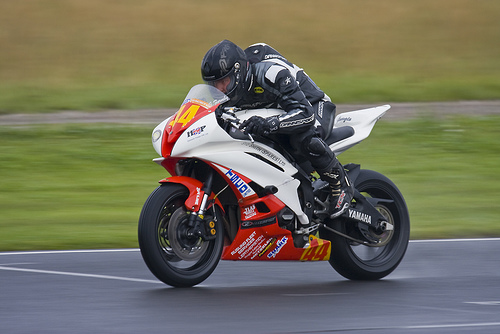helmet: (194, 41, 254, 92)
